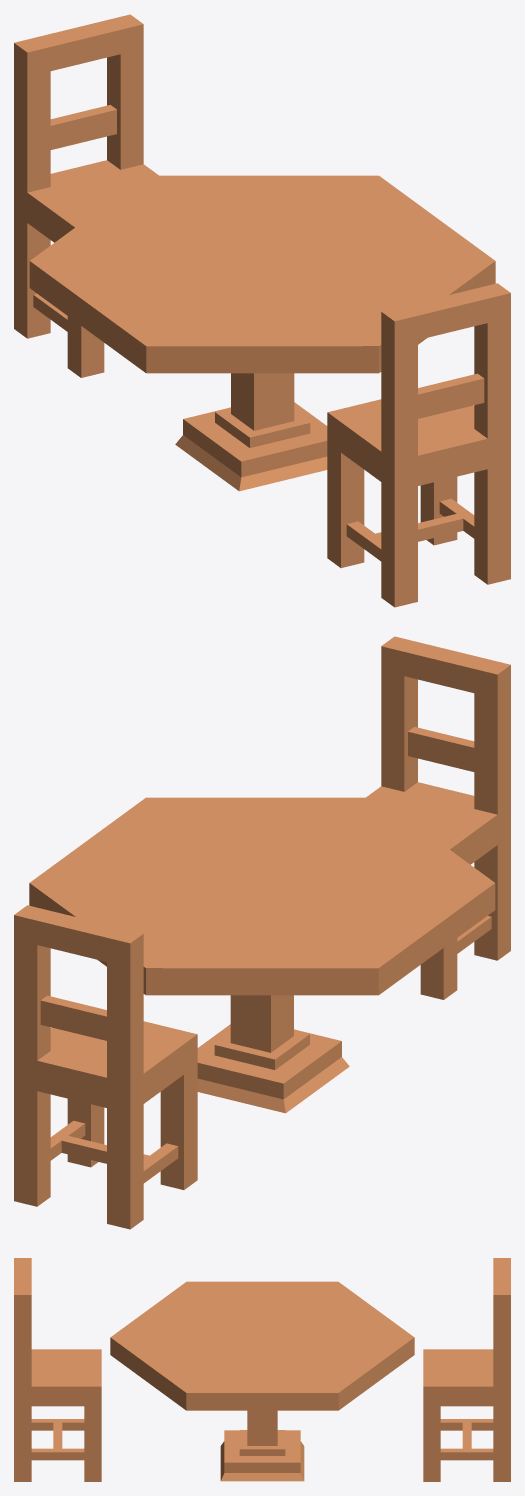
Rendered from cafe_table.glb.
3 renders of one model, top to bottom at view 1: azimuth 30°, elevation 25°; view 2: azimuth 150°, elevation 25°; view 3: azimuth 270°, elevation 25°, orthographic. The views are drawn at different scales.
Parts seen in each view (by area): view 1: tableRound(Clone); view 2: tableRound(Clone); view 3: tableRound(Clone).
Boxes of the visible parts, x1=… form: tableRound(Clone): x1=14, y1=14, x2=510, y2=607; tableRound(Clone): x1=14, y1=636, x2=510, y2=1229; tableRound(Clone): x1=14, y1=1258, x2=510, y2=1481.
Bounding box in the file's own units: 1.44 × 1.13 × 2.72.
